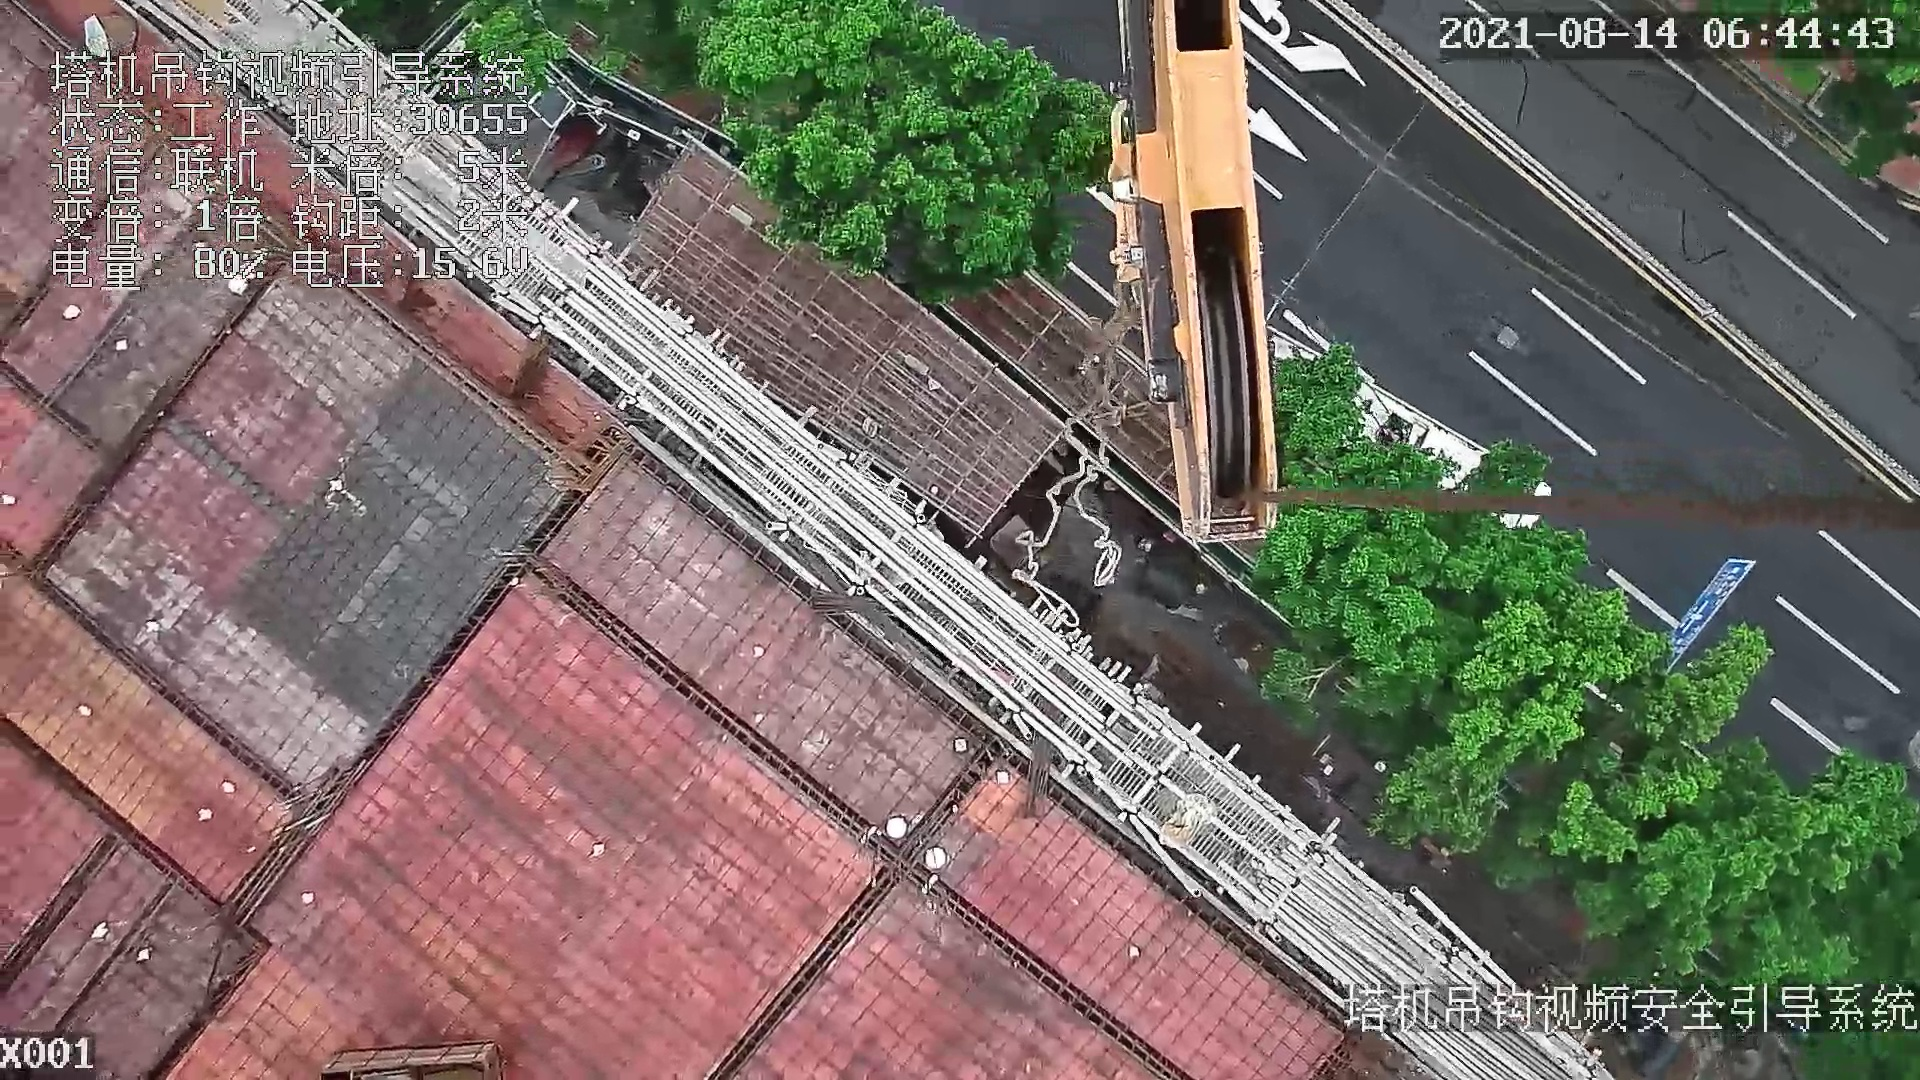hook: (1091, 8, 1287, 545)
